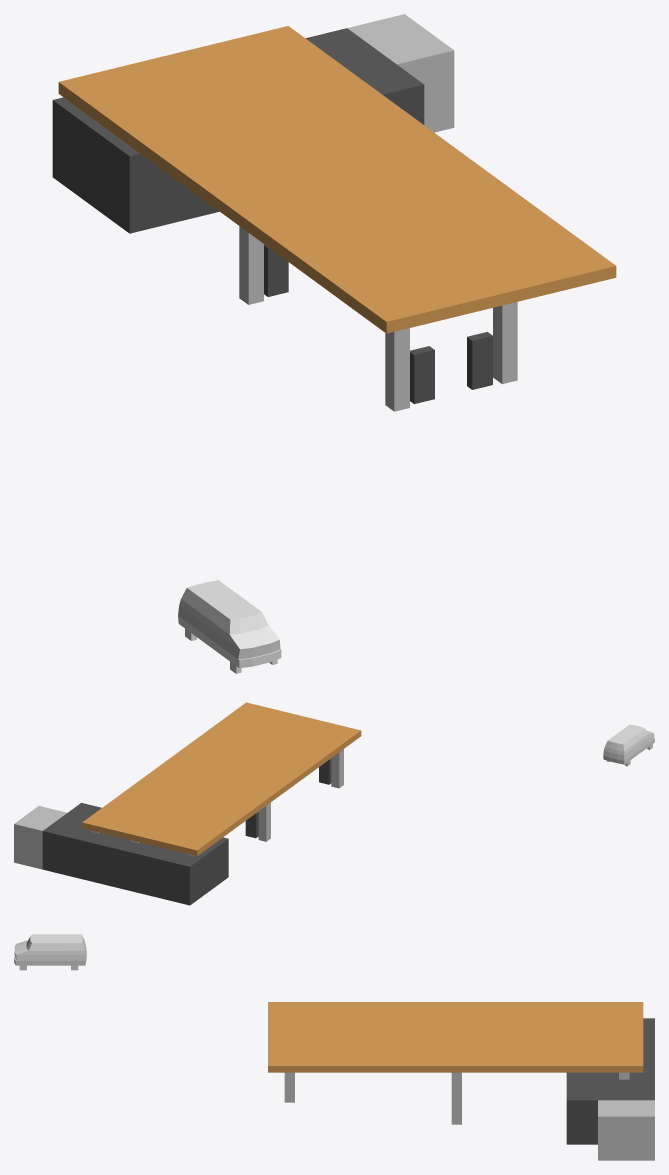
The model's file is bundles.fbx.
The picture shows the model from 3 angles, top to bottom: view 1: azimuth 30°, elevation 25°; view 2: azimuth 150°, elevation 25°; view 3: azimuth 270°, elevation 25°; orthographic projection. The views are drawn at different scales.
Visible parts, largest first — view 1: desertGasStation, FordF150; view 2: desertGasStation, FordF150; view 3: desertGasStation, FordF150.
Boxes of the visible parts, left/top/right/bottom form: desertGasStation: left=52, top=14, right=616, bottom=411; FordF150: left=178, top=580, right=281, bottom=673; desertGasStation: left=14, top=702, right=361, bottom=905; FordF150: left=603, top=724, right=654, bottom=766; desertGasStation: left=268, top=1002, right=654, bottom=1160; FordF150: left=14, top=934, right=86, bottom=970.
Size of what is drawn, in the model's own units: 3455 by 478 by 4629.
Materials: 2 (1 with a texture image).
